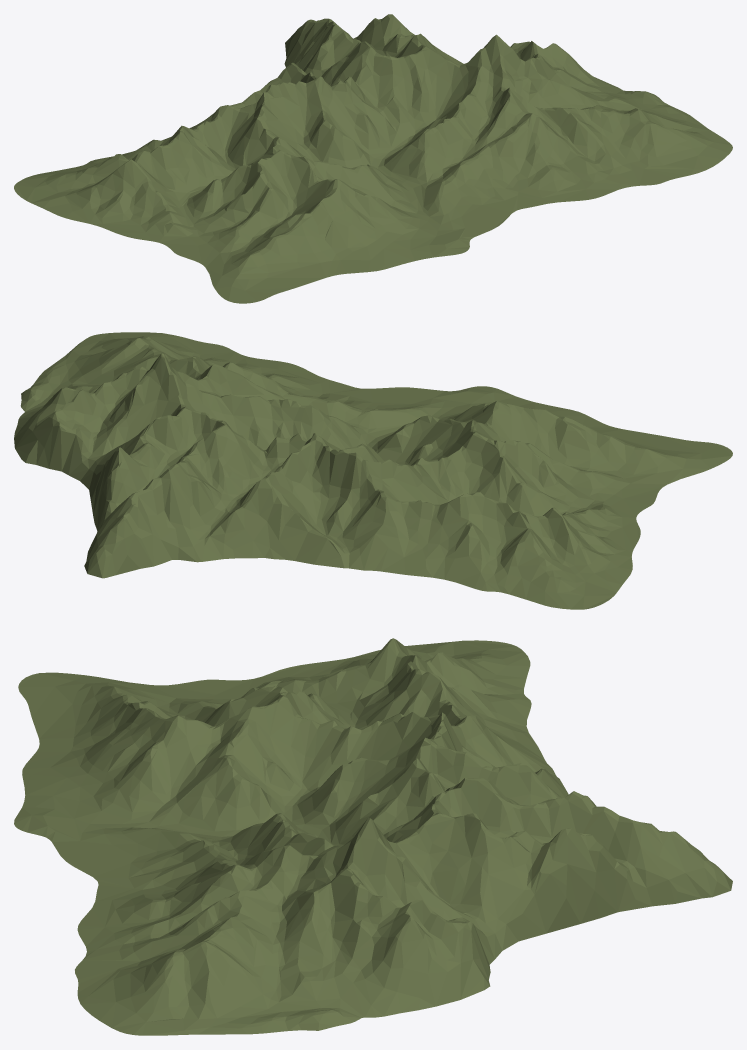
File: SM_Envr_Nature_Mountain_07_01.fbx
3 views of the same model, one above another, from view 1: azimuth 30°, elevation 25°; view 2: azimuth 150°, elevation 25°; view 3: azimuth 270°, elevation 25° (orthographic). The views are drawn at different scales.
Visible parts, largest first — view 1: SM_Envr_Nature_Mountain_07_01; view 2: SM_Envr_Nature_Mountain_07_01; view 3: SM_Envr_Nature_Mountain_07_01.
Boxes of the visible parts, x1,y1,x2,y2 form: SM_Envr_Nature_Mountain_07_01: [14, 14, 732, 303]; SM_Envr_Nature_Mountain_07_01: [14, 332, 732, 609]; SM_Envr_Nature_Mountain_07_01: [14, 638, 732, 1035].
Bounding box in the file's own units: 123286 × 16959 × 94782.
